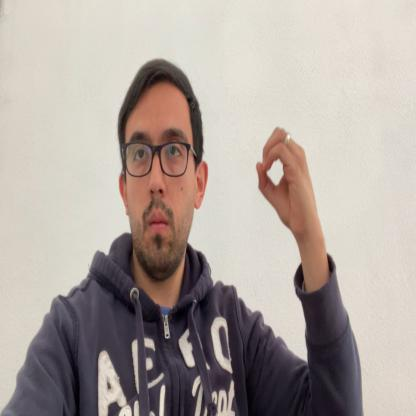O: (255, 124, 315, 238)
